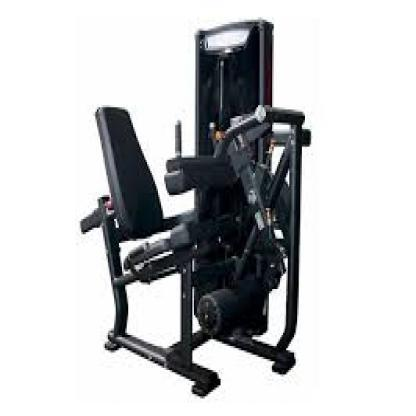leg extension: (75, 13, 317, 409)
